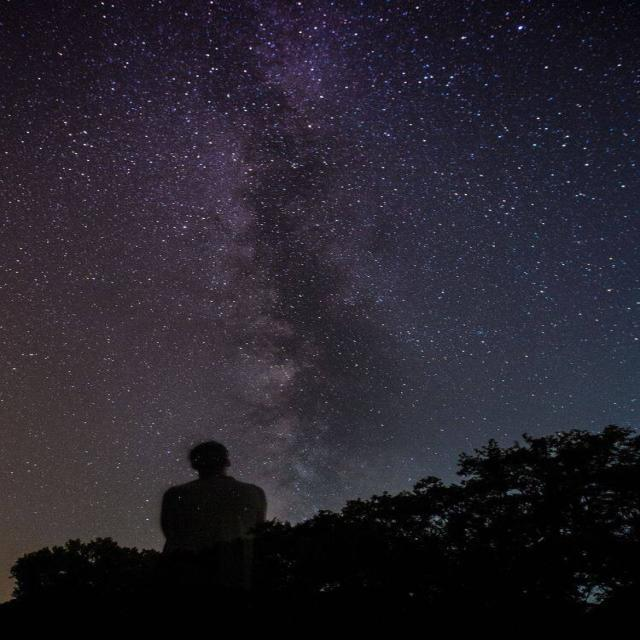on: (150, 70, 475, 242)
